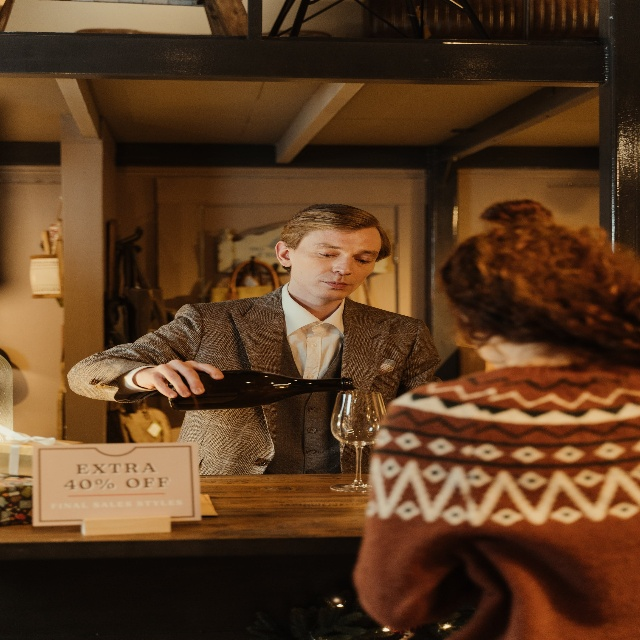Sin_guantes: (143, 354, 221, 398)
